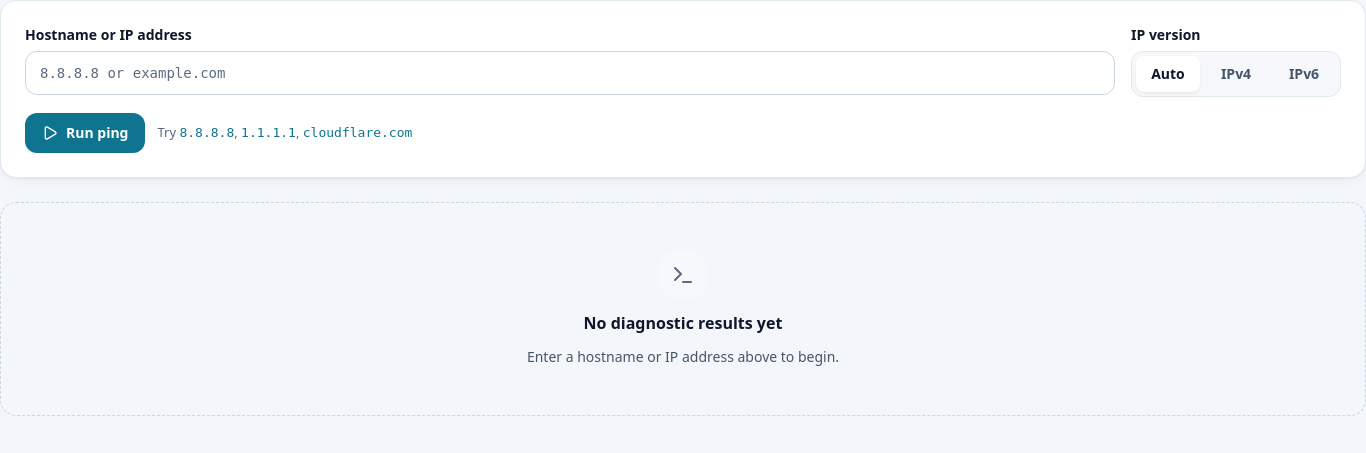
it: DiagnosticRunner › aborts the in-flight request when cancelled
In the field labelled "Hostname or IP address": (570, 73) [25,51,1115,95], type "8.8.8.8"
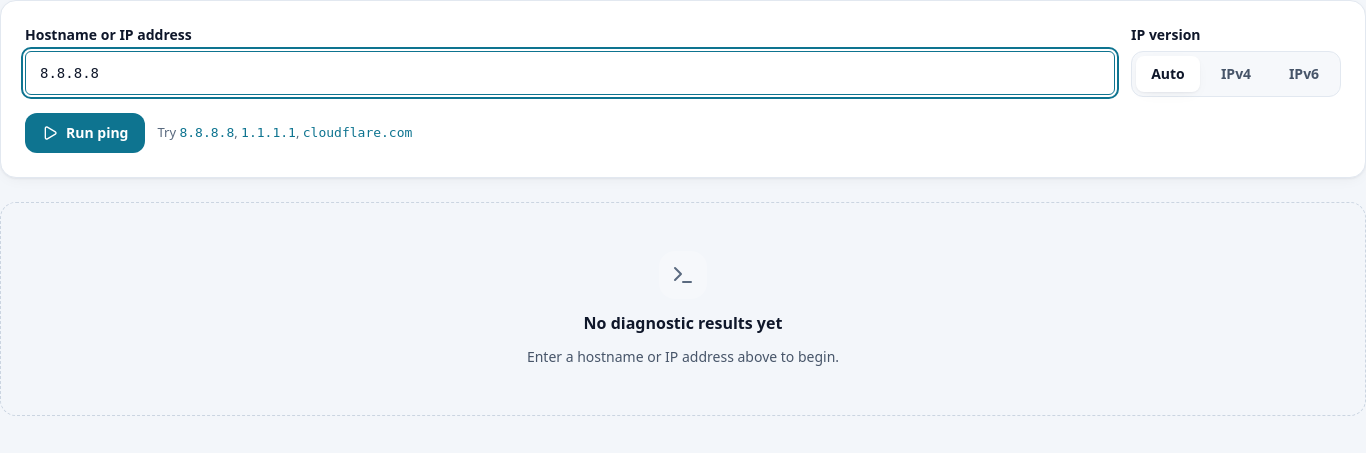
Click the button "Run ping": (85, 133) [25,113,146,153]
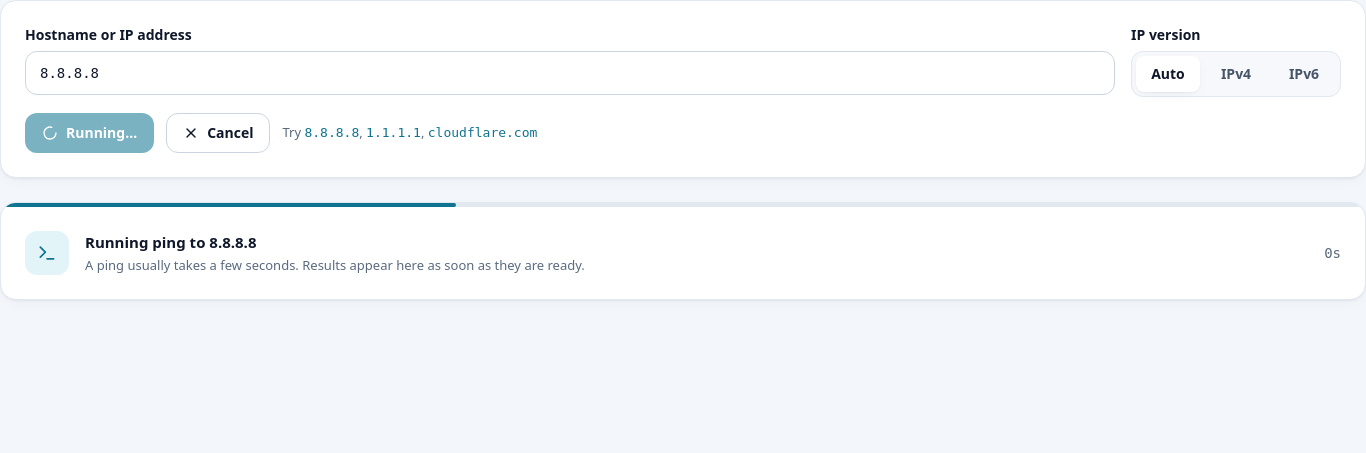
Expected: the text "Running ping to 8.8.8.8" is shown, [85,232,256,252]
Click the button "Cancel": (218, 133) [166,113,270,153]
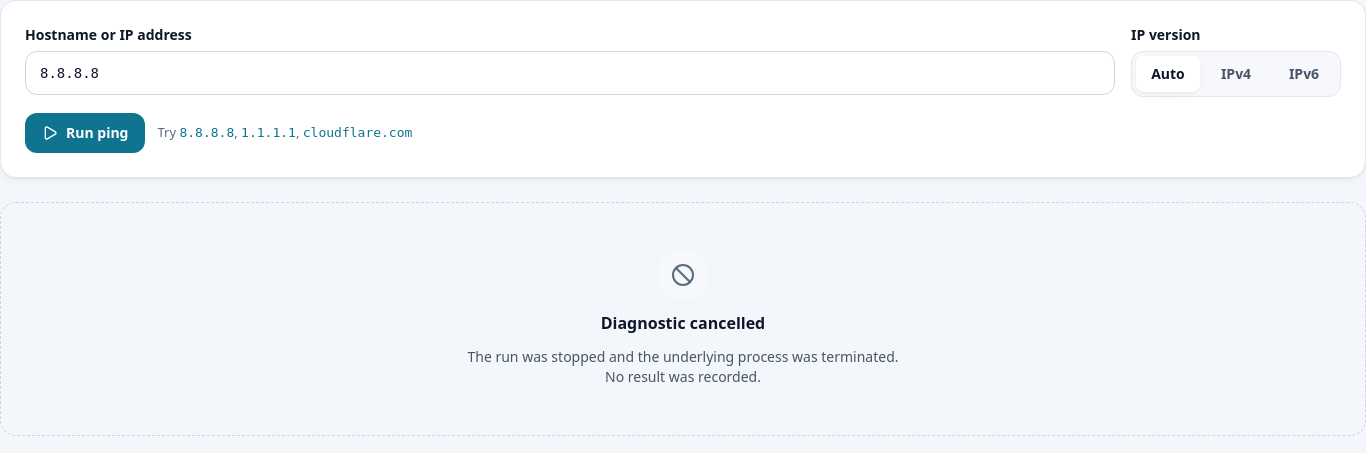
Expected: the text "Diagnostic cancelled" is shown, [601,311,765,335]
Expected: the message "Running ping to 8.8.8.8 A ping usually takes a few seconds. Results appear here" is gone
Expected: the button "Run ping" is enabled, [25,113,146,153]
